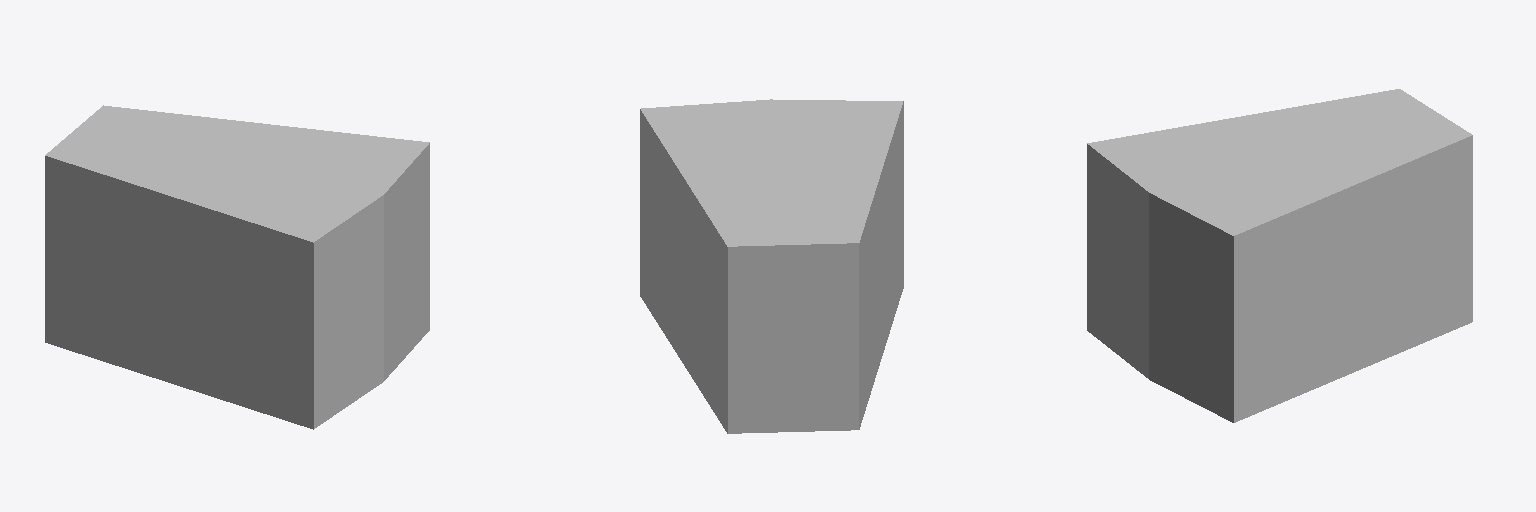
File: Pizza_OutRight.obj
3 renders of one model, left to right at view 1: azimuth 30°, elevation 25°; view 2: azimuth 150°, elevation 25°; view 3: azimuth 270°, elevation 25°, orthographic.
Parts seen in each view (by area): view 1: Object001; view 2: Object001; view 3: Object001.
Part boxes in pixels (left/top/right/bottom): Object001: left=45, top=105, right=429, bottom=429; Object001: left=640, top=99, right=903, bottom=433; Object001: left=1087, top=89, right=1472, bottom=422.
Size of the model in its own units: 15.36 by 9.08 by 16.99.